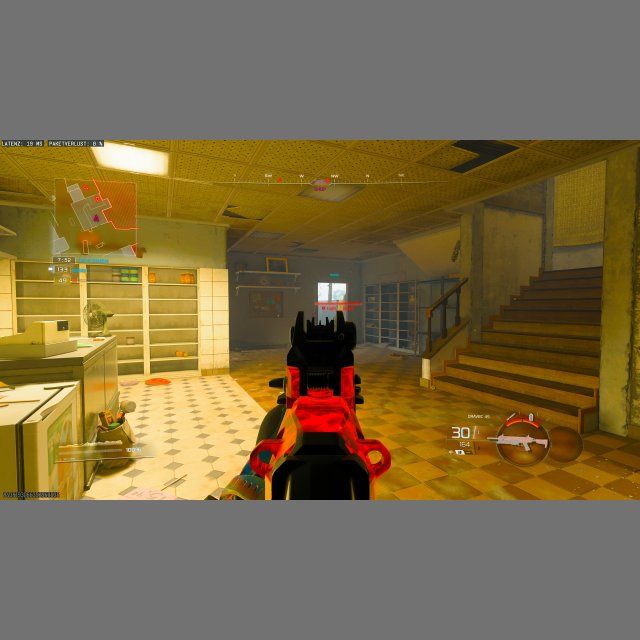player: (84, 301, 112, 338)
